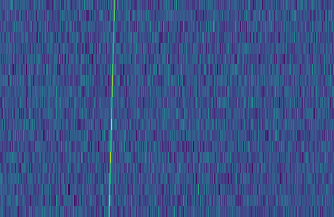signal: (103, 0, 117, 217)
